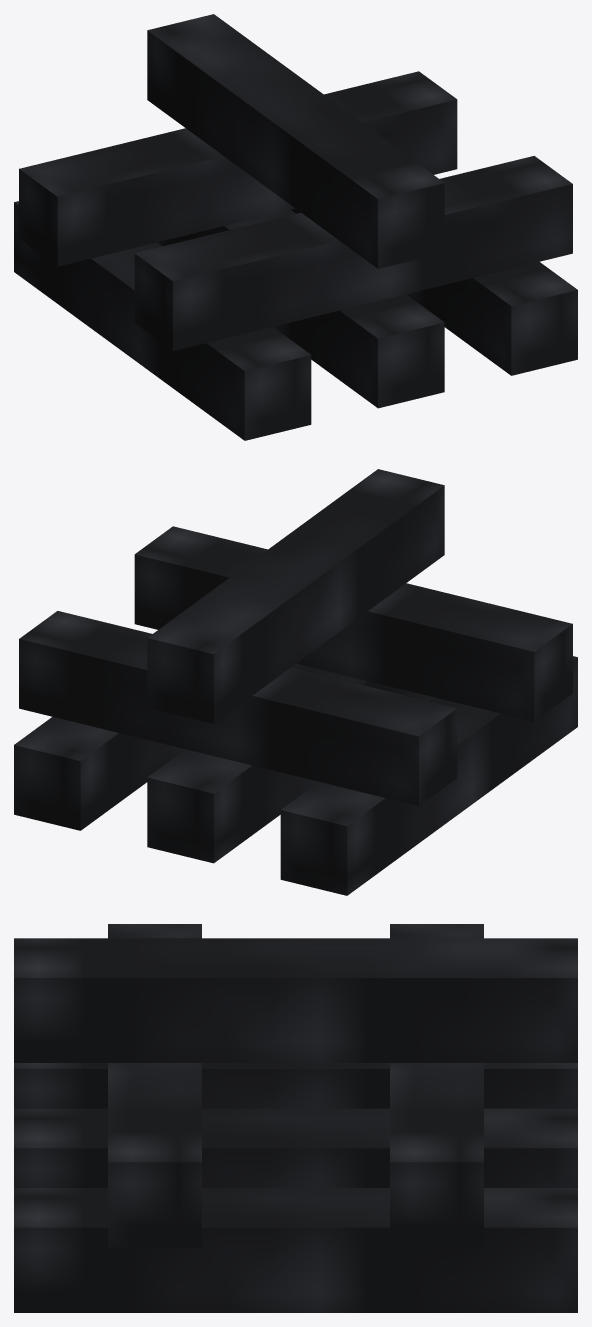
File: ArgentineParrilla.fbx
3 views of the same model, one above another, from view 1: azimuth 30°, elevation 25°; view 2: azimuth 150°, elevation 25°; view 3: azimuth 270°, elevation 25° (orthographic). The views are drawn at different scales.
Parts seen in each view (by area): view 1: charcoal_l2_front, charcoal_l3_top, charcoal_l2_back, charcoal_l1_left, charcoal_l1_center, charcoal_l1_right; view 2: charcoal_l2_back, charcoal_l3_top, charcoal_l2_front, charcoal_l1_left, charcoal_l1_center, charcoal_l1_right; view 3: charcoal_l3_top, charcoal_l1_right, charcoal_l1_center, charcoal_l2_back, charcoal_l2_front, charcoal_l1_left.
Boxes of the visible parts, x1,y1,x2,y2 form: charcoal_l2_front: (134, 156, 572, 350); charcoal_l3_top: (147, 14, 444, 268); charcoal_l2_back: (19, 71, 457, 266); charcoal_l1_left: (14, 201, 311, 440); charcoal_l1_center: (158, 210, 444, 408); charcoal_l1_right: (291, 208, 577, 375); charcoal_l2_back: (19, 611, 457, 805); charcoal_l3_top: (147, 469, 444, 723); charcoal_l2_front: (134, 526, 572, 721); charcoal_l1_left: (280, 656, 577, 895); charcoal_l1_center: (147, 665, 433, 863); charcoal_l1_right: (14, 663, 300, 830); charcoal_l3_top: (14, 938, 577, 1062); charcoal_l1_right: (14, 1188, 577, 1312); charcoal_l1_center: (14, 1108, 577, 1187); charcoal_l2_back: (390, 924, 483, 1247); charcoal_l2_front: (108, 924, 201, 1247); charcoal_l1_left: (14, 1063, 577, 1108).
Bounding box in the file's own units: 75 × 37.5 × 75.
Materials: 1 (1 with a texture image).
